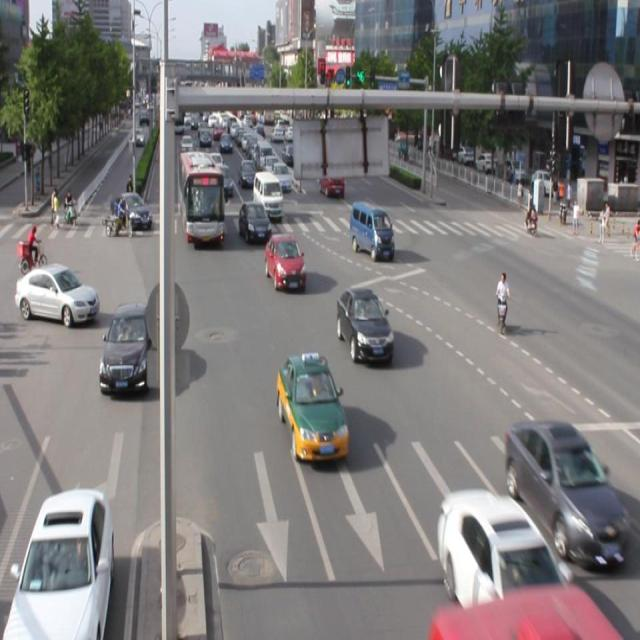car: (438, 486, 566, 640), (503, 416, 627, 570), (1, 487, 114, 640), (276, 352, 348, 461), (99, 302, 153, 398), (337, 288, 392, 364), (265, 233, 305, 291), (239, 200, 272, 246)
truck: (349, 200, 393, 260)
